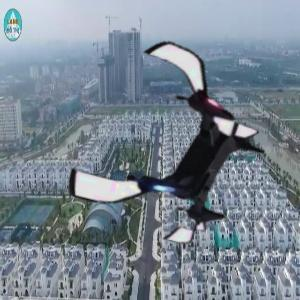drone: (72, 41, 276, 245)
